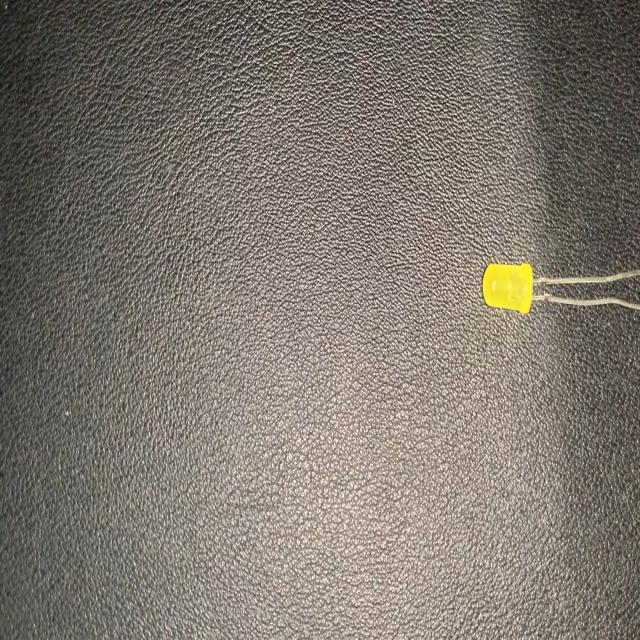LED: (482, 260, 640, 316)
